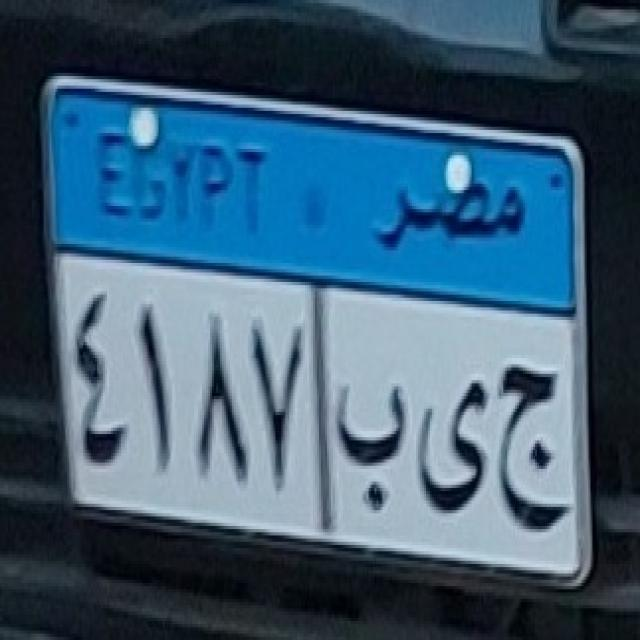1: (130, 293, 186, 478)
4: (65, 276, 135, 478)
7: (243, 314, 311, 494)
8: (185, 302, 254, 501)
Yeeh: (414, 363, 494, 524)
baa: (326, 362, 419, 540)
geem: (488, 351, 572, 548)
